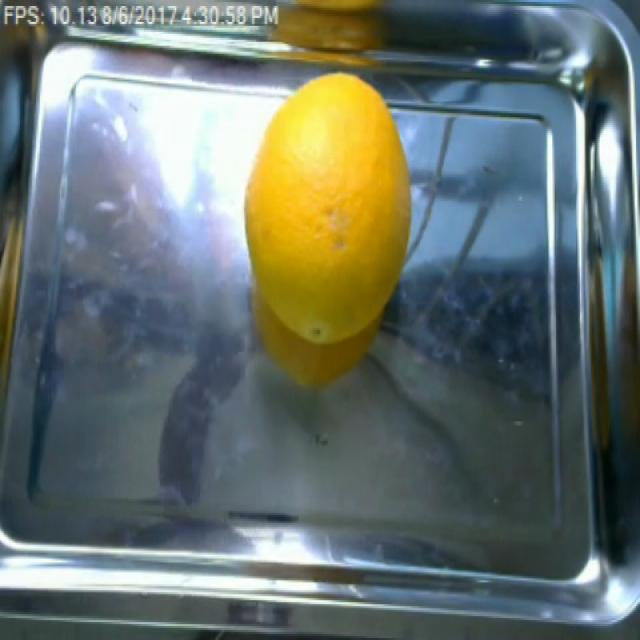Fruit: (229, 61, 416, 388), (255, 0, 416, 30)
